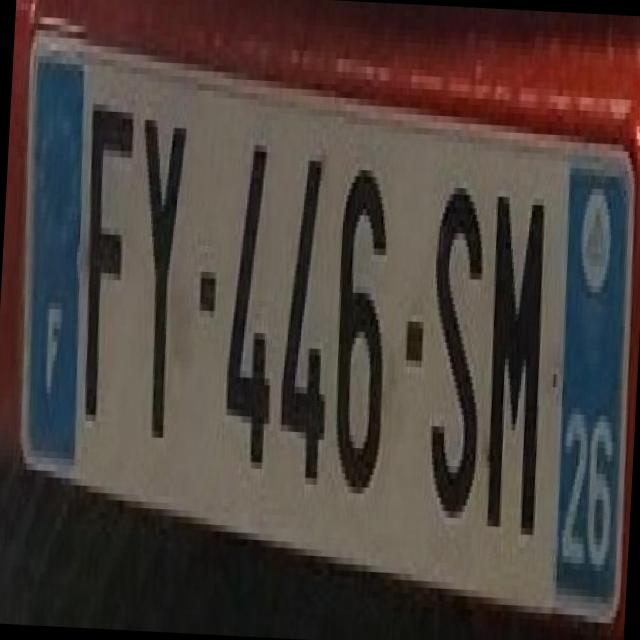4: (259, 133, 344, 479), (213, 118, 284, 469)
6: (316, 143, 402, 502)
F: (68, 84, 138, 417)
M: (469, 170, 559, 535)
S: (408, 168, 500, 526)
Y: (122, 88, 190, 420)
